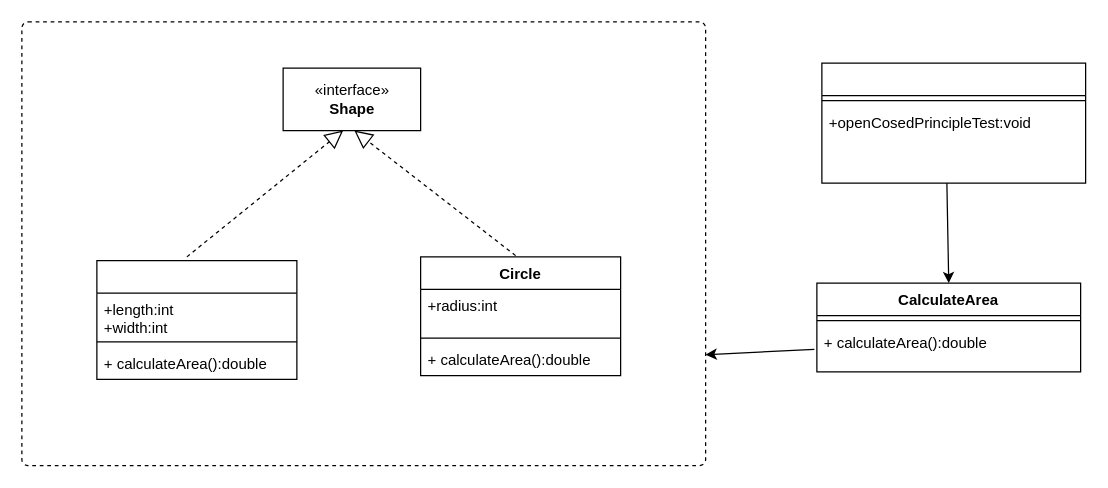
Image size: 1108x488. Some labels were removed from this diagram. Each missing label, with the box of its shape:
IPrincipleTest: (821, 62, 1086, 183)
Rectangle: (96, 259, 297, 379)
